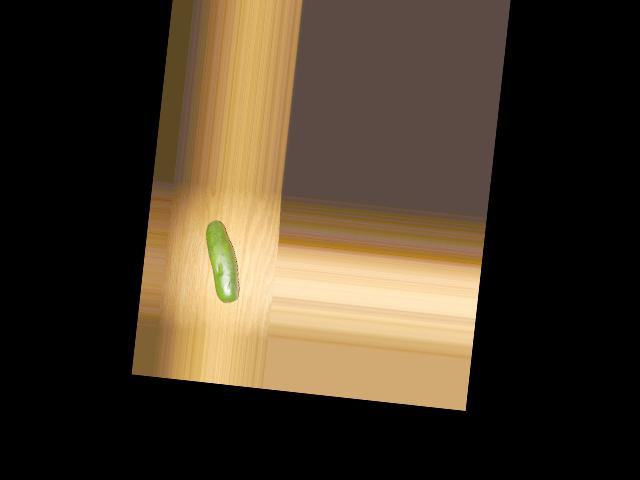cucumber: (199, 219, 246, 303)
